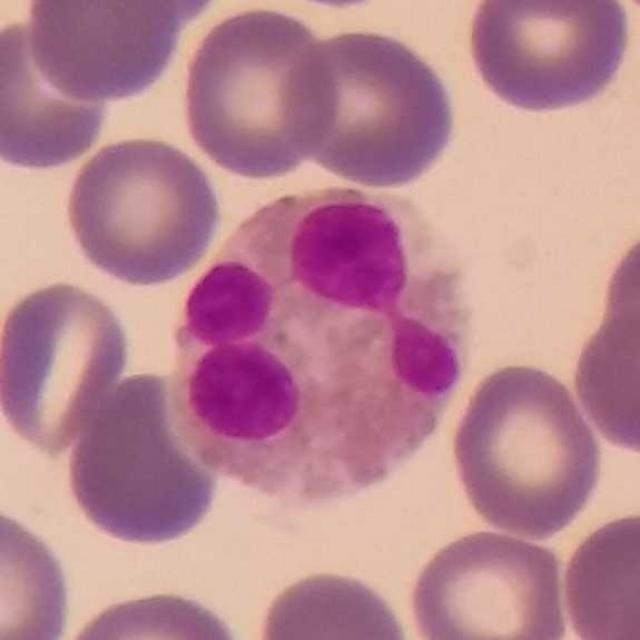Eosinophil: (167, 180, 470, 512)
RBC: (444, 356, 608, 541), (283, 24, 462, 192), (174, 2, 340, 182), (60, 381, 223, 552), (59, 130, 225, 288), (0, 275, 135, 457), (460, 0, 636, 118), (404, 524, 574, 640), (0, 11, 115, 175), (22, 0, 186, 105), (252, 563, 418, 640), (569, 295, 640, 461), (556, 506, 640, 638), (54, 584, 248, 640), (0, 500, 77, 640), (595, 217, 640, 377), (45, 0, 230, 32)
